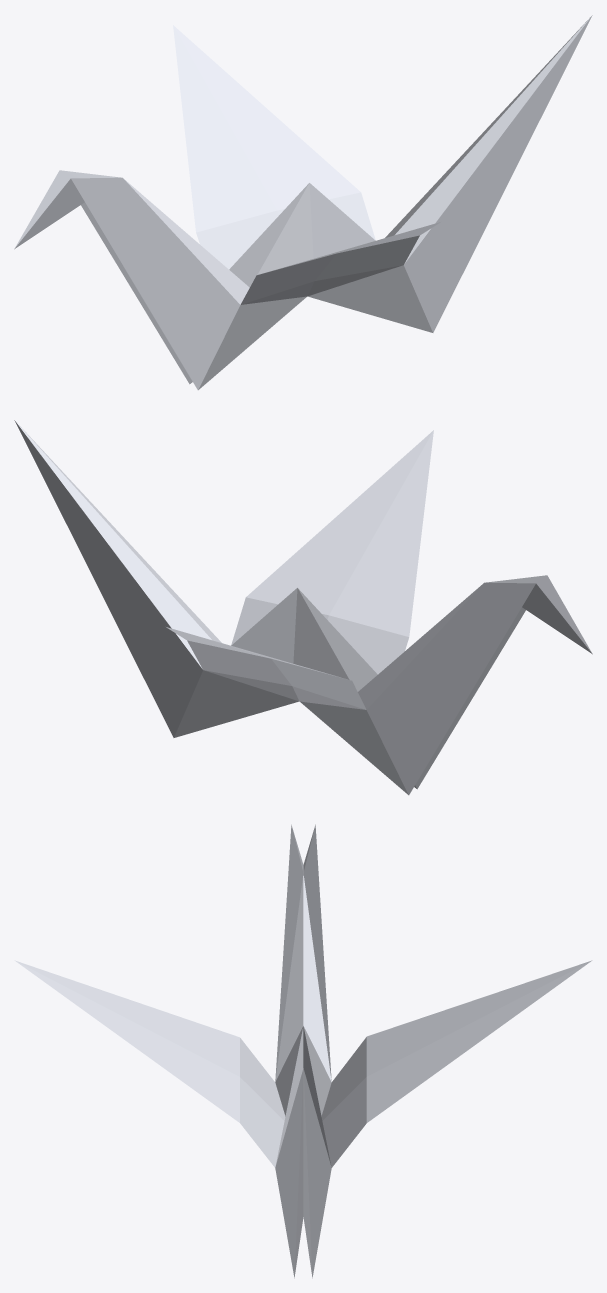
The model's file is Crane.fbx.
The picture shows the model from 3 angles, top to bottom: view 1: azimuth 30°, elevation 25°; view 2: azimuth 150°, elevation 25°; view 3: azimuth 270°, elevation 25°; orthographic projection. The views are drawn at different scales.
Visible parts, largest first — view 1: Crane; view 2: Crane; view 3: Crane.
Boxes of the visible parts, box(x1,y1,x2,y2) form: Crane: box(14, 15, 592, 390); Crane: box(14, 420, 592, 795); Crane: box(14, 824, 592, 1278).
Bounding box in the file's own units: 239 × 109 × 192.
